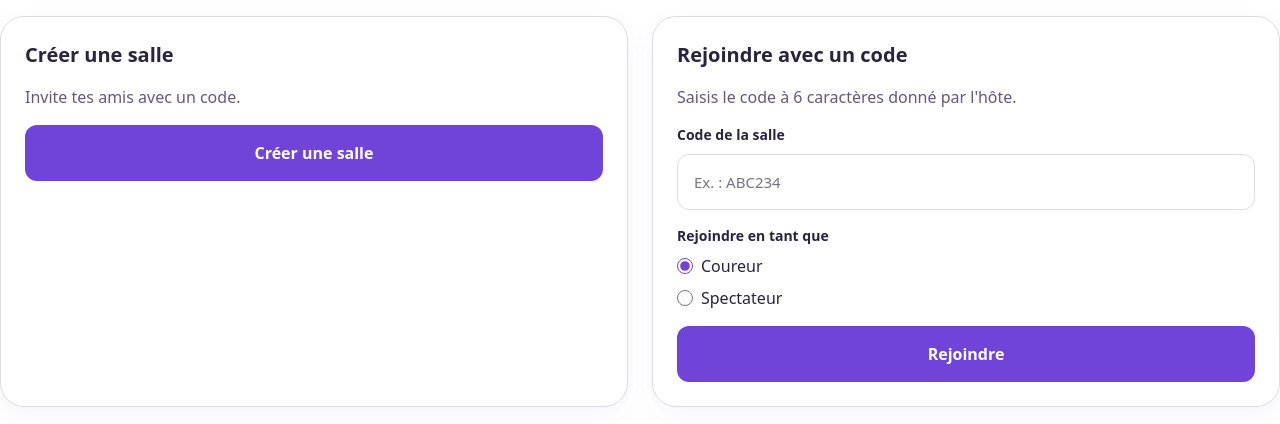
Test case: opération en cours › une fois « Rejoindre » lancé, « Créer » est désactivé : pas deux navigations
The width and height of the screenshot is (1280, 424).
Type "ABC234" into the field labelled "Code de la salle". click: (966, 182)
box: [677,154,1255,210]
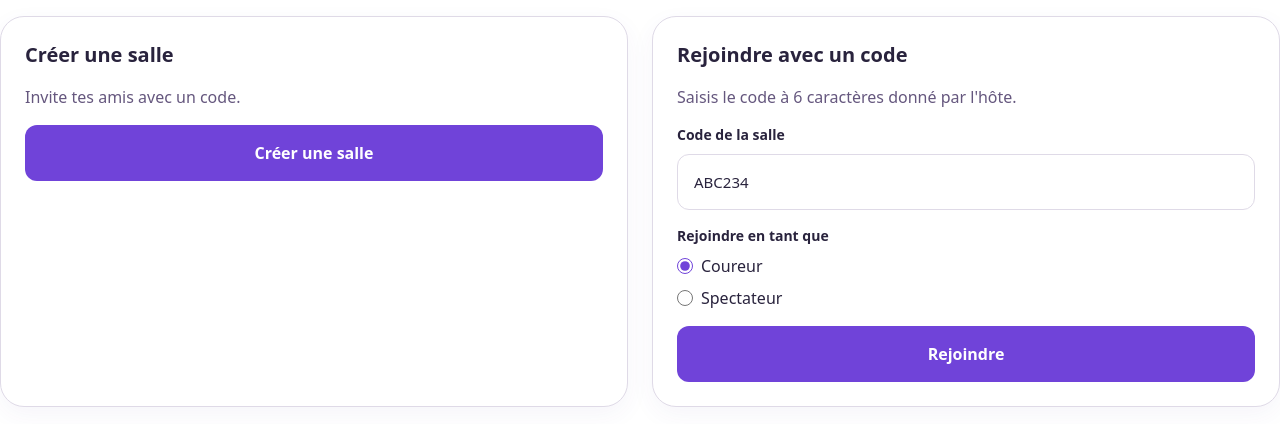
Click the button "Rejoindre". click: (966, 354)
box: [677,326,1255,382]
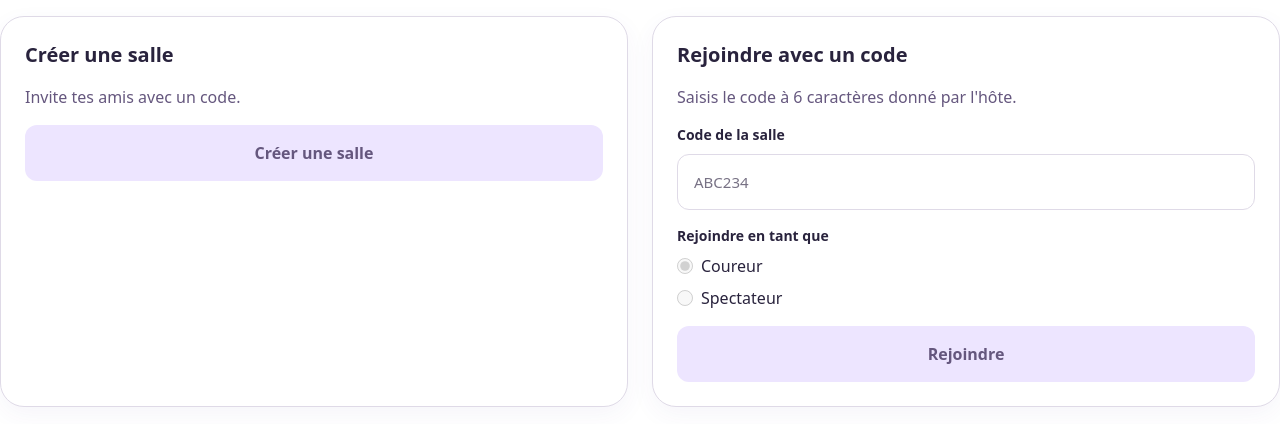
Check: the button "Créer une salle" is disabled, box [25,125,603,181]
Check: the button "Rejoindre" is disabled, box [677,326,1255,382]
